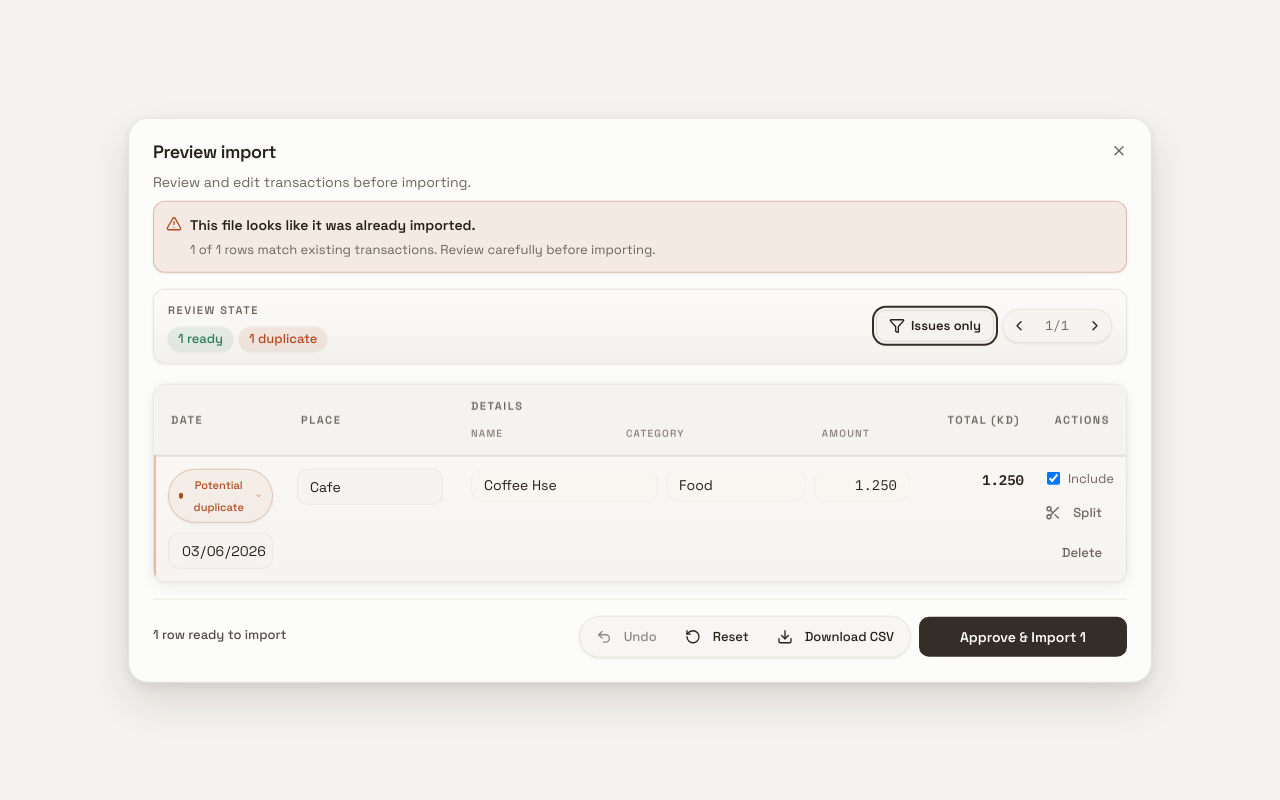
Scenario: PreviewImportDialog › renders fuzzy duplicate warnings with the softer label
The image size is (1280, 800).
Expected: the text "Potential duplicate" is shown, [194,477,244,513]
Click the button with aria-label "Issue details" at [220, 495], box [168,468,273,522]
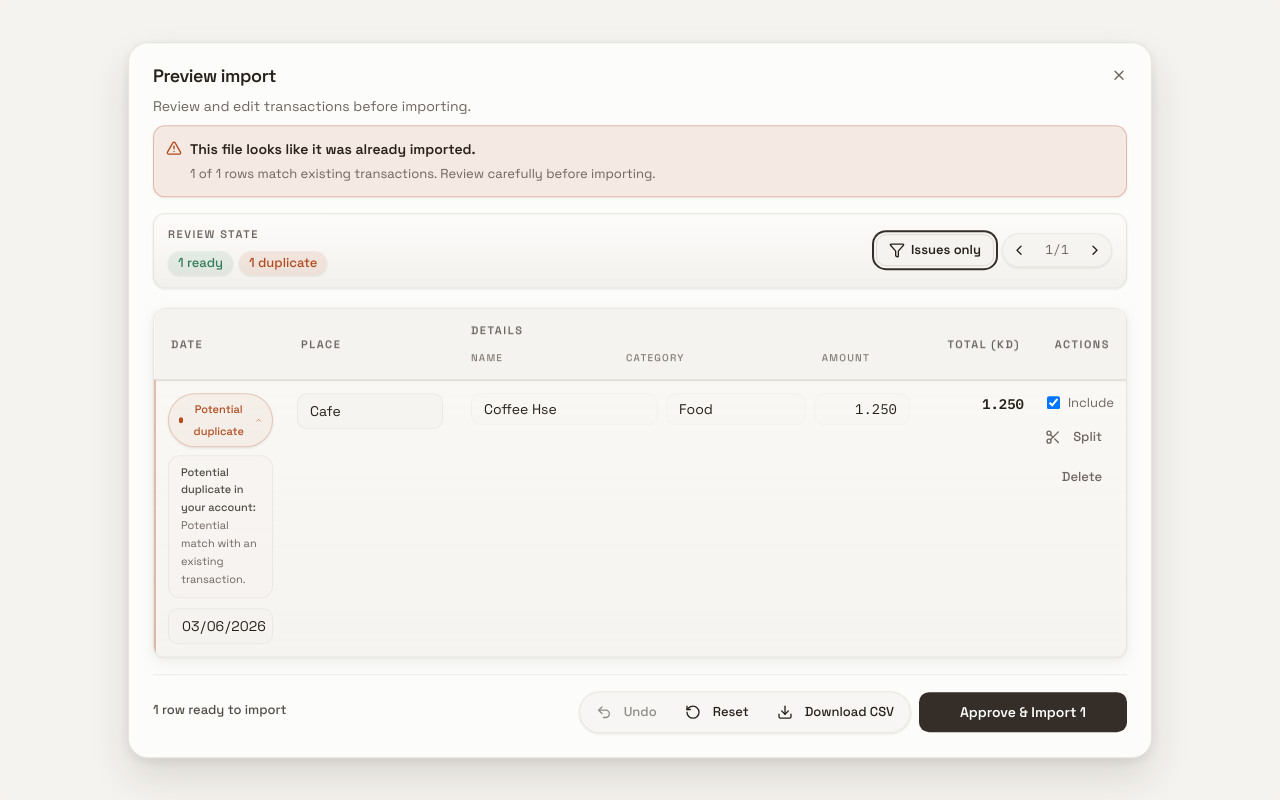
Result: the text "Potential match with an existing transaction." is shown at [181,518,257,586]
